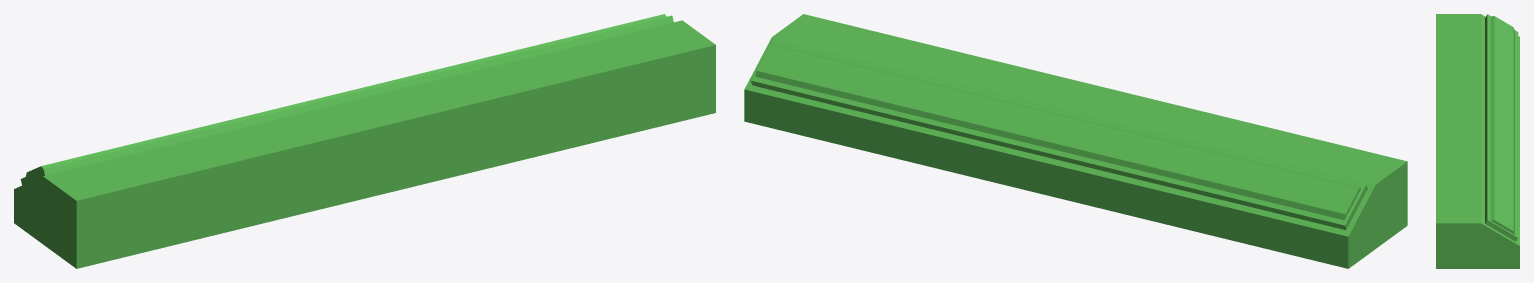
Rendered from zeminkenarkisa.fbx.
The picture shows the model from 3 angles, left to right: view 1: azimuth 30°, elevation 25°; view 2: azimuth 150°, elevation 25°; view 3: azimuth 270°, elevation 25°; orthographic projection. The views are drawn at different scales.
Parts seen in each view (by area): view 1: Cube.013; view 2: Cube.013; view 3: Cube.013.
Boxes of the visible parts, <box> form: Cube.013: <box>14,14,715,268</box>; Cube.013: <box>744,14,1407,268</box>; Cube.013: <box>1436,14,1519,268</box>.
Bounding box in the file's own units: 2284 × 242 × 387.
